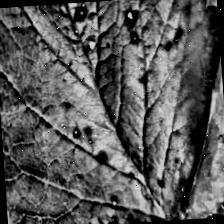Leaf Spot: (0, 0, 224, 224), (1, 127, 172, 224), (156, 0, 224, 220)
